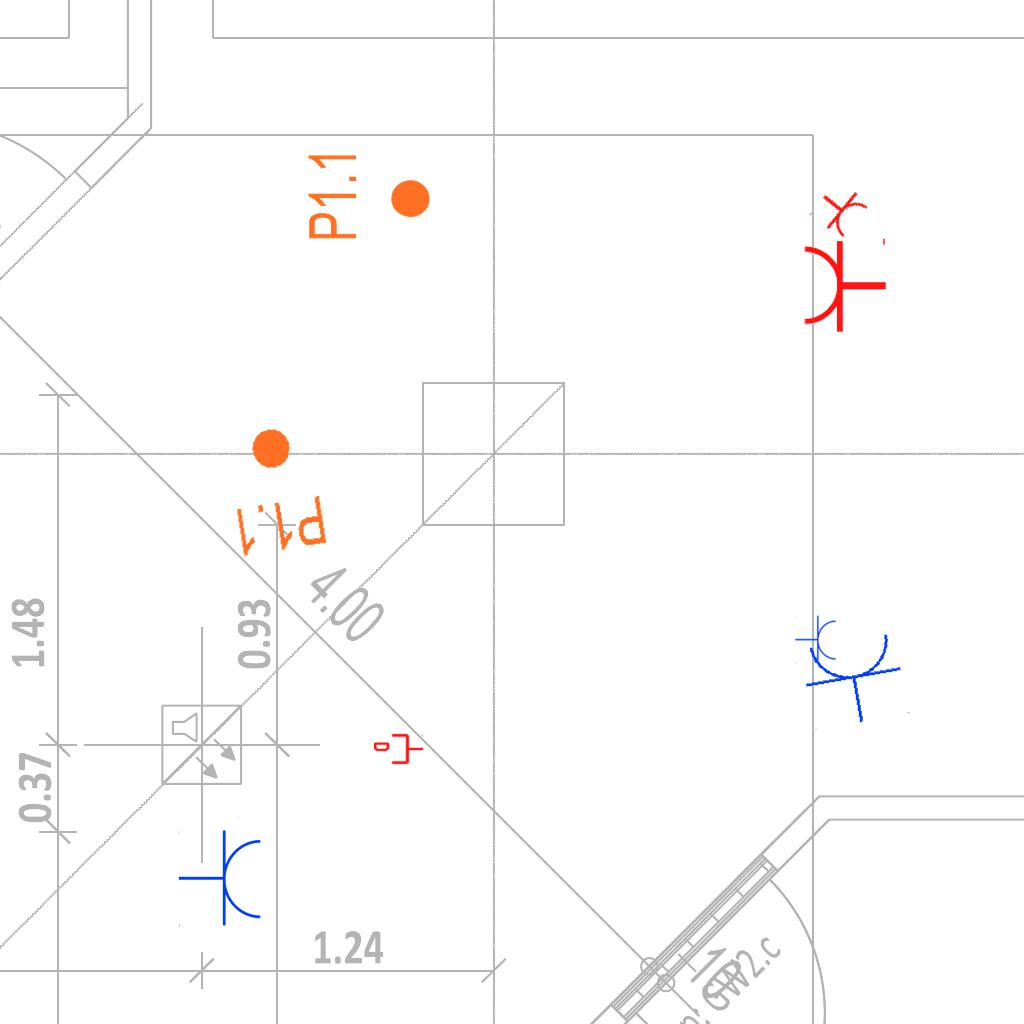Datenanschluss_einfach: (374, 732, 424, 766)
Downlight_LED_Einbauleuchten_Flur: (218, 419, 331, 561), (305, 149, 433, 242)
Schukosteckdose_einfach: (798, 627, 912, 732), (178, 829, 265, 929), (801, 234, 888, 334), (807, 177, 872, 243), (795, 615, 838, 665)
